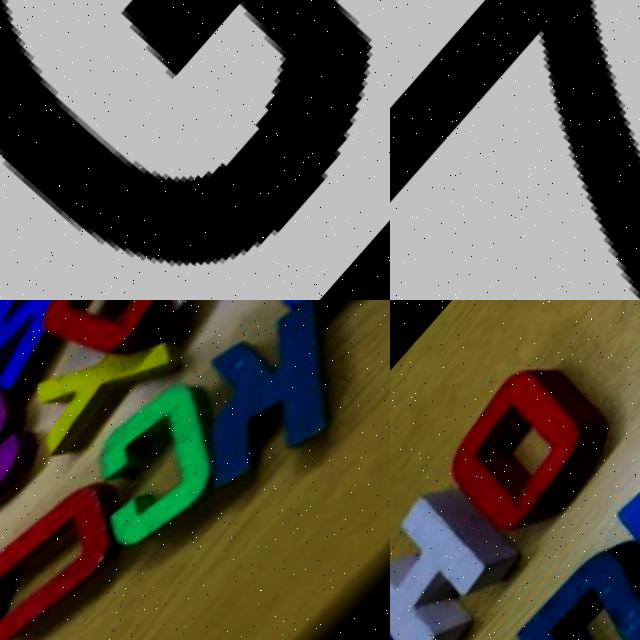7: (390, 0, 640, 300)
D: (467, 524, 640, 640)
G: (0, 0, 390, 300)
H: (390, 465, 537, 640)
O: (410, 333, 640, 563), (10, 300, 217, 394)
U: (0, 451, 152, 640)
V: (569, 380, 640, 640)
